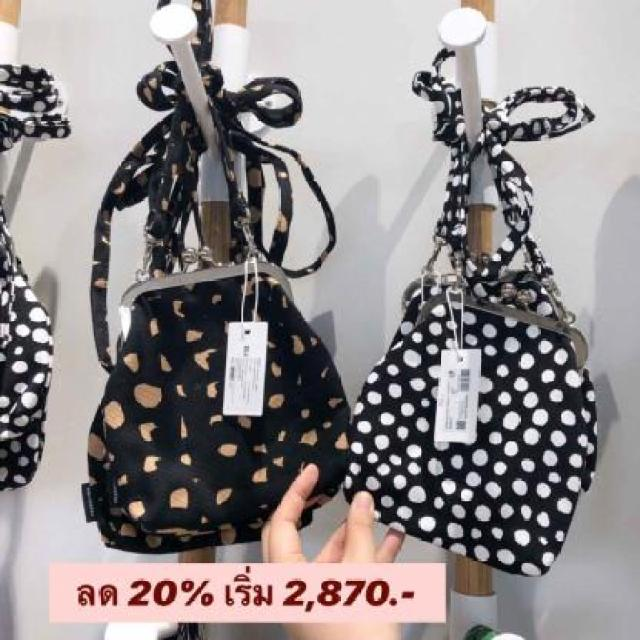Bag: (351, 31, 632, 602), (72, 35, 371, 567)
